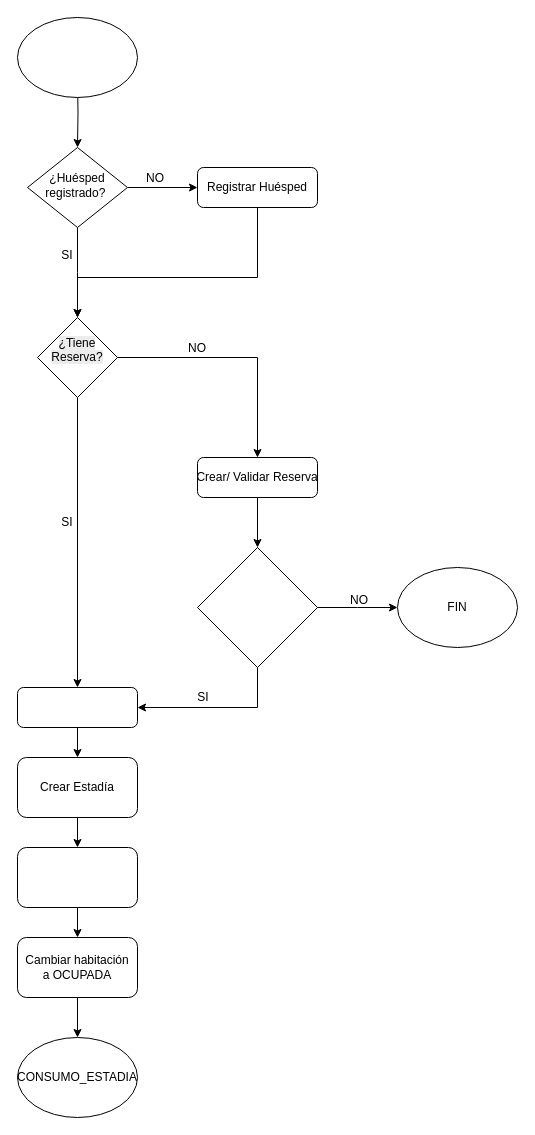
The diagram is 535 pixels wide and 1135 high, and some of its shapes have lost their labels. The shapes that lost their labels are listed below. From the top down, each one's box as (x1, y1, x2, y2) in pixels, then its label:
(16, 16, 138, 98): IN ICIO
(196, 546, 318, 668): ¿Disponibilidad de habitaciones?
(16, 686, 138, 728): Asignar habitación
(16, 846, 138, 908): Asociar huéspedes
